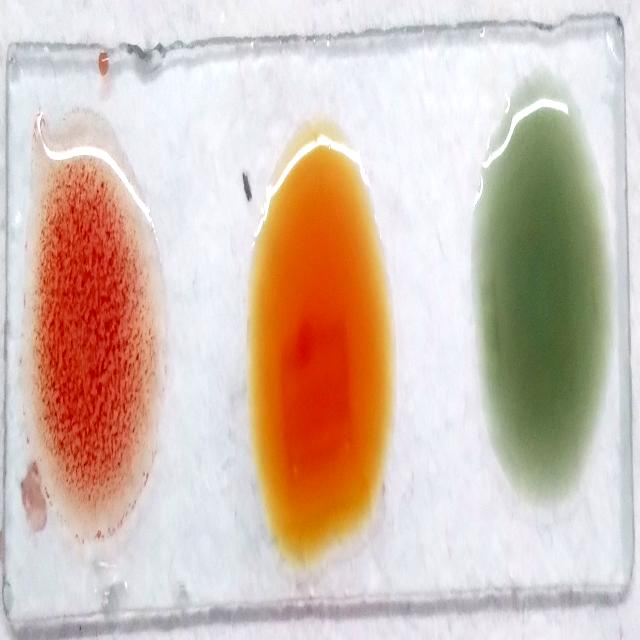D: (29, 133, 163, 545)
